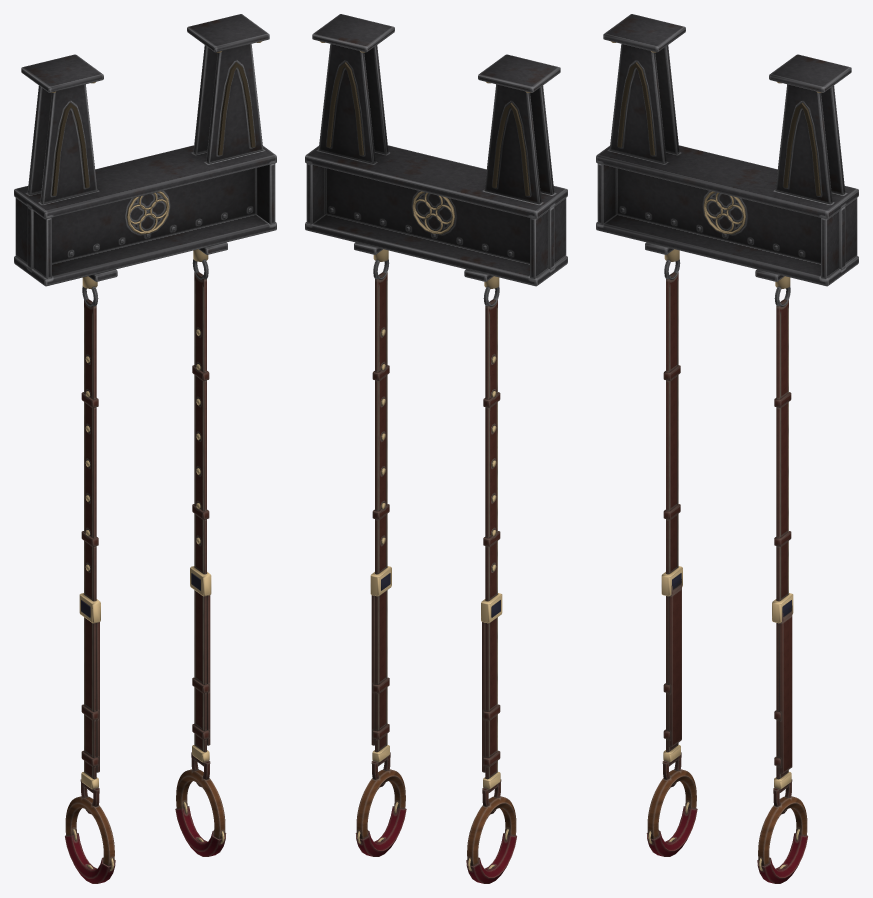
File: GymRings.fbx
3 views of the same model, side by side, from view 1: azimuth 30°, elevation 25°; view 2: azimuth 150°, elevation 25°; view 3: azimuth 330°, elevation 25° (orthographic).
Parts seen in each view (by area): view 1: GymRings; view 2: GymRings; view 3: GymRings.
Part boxes in pixels (<box>): GymRings: <box>14,14,276,883</box>; GymRings: <box>305,14,567,883</box>; GymRings: <box>596,14,858,883</box>.
Bounding box in the file's own units: 420 × 1415 × 145.
